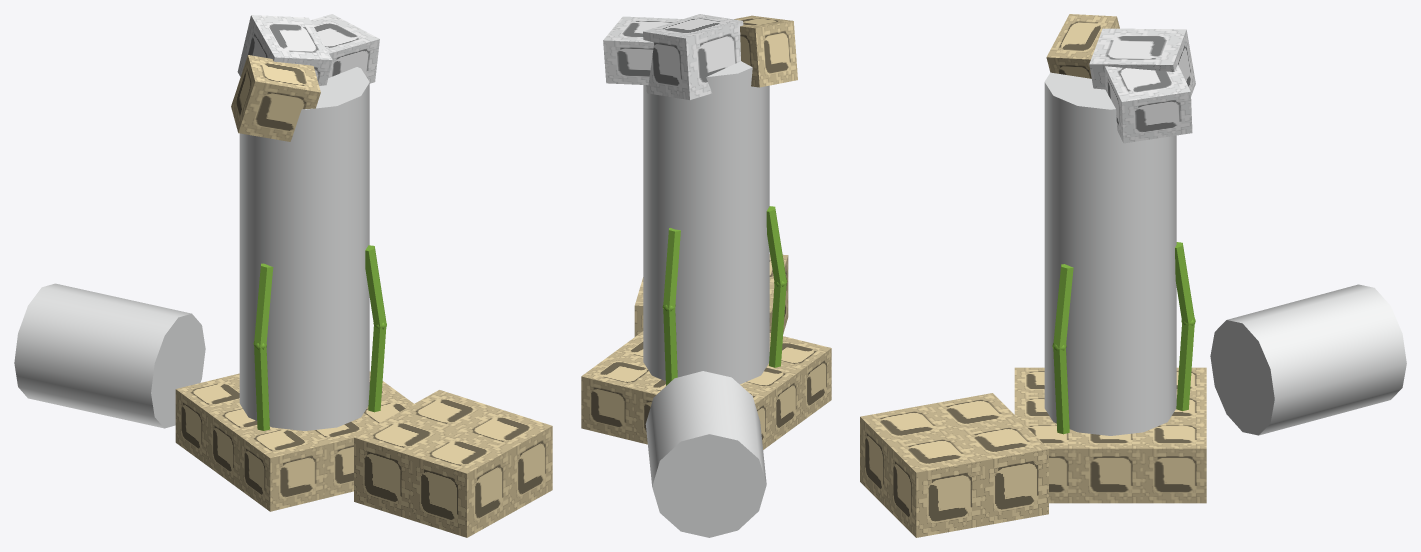
Rendered from BrokenPillar.glb.
3 views of the same model, side by side, from view 1: azimuth 30°, elevation 25°; view 2: azimuth 150°, elevation 25°; view 3: azimuth 270°, elevation 25° (orthographic). The views are drawn at different scales.
Visible parts, largest first — view 1: BrokenPillar; view 2: BrokenPillar; view 3: BrokenPillar.
Part boxes in pixels (left/top/right/bottom): BrokenPillar: left=14, top=14, right=552, bottom=537; BrokenPillar: left=581, top=14, right=831, bottom=537; BrokenPillar: left=860, top=14, right=1406, bottom=537.
Bounding box in the file's own units: 6.42 × 7.82 × 9.11.
1 material, 1 textured.
